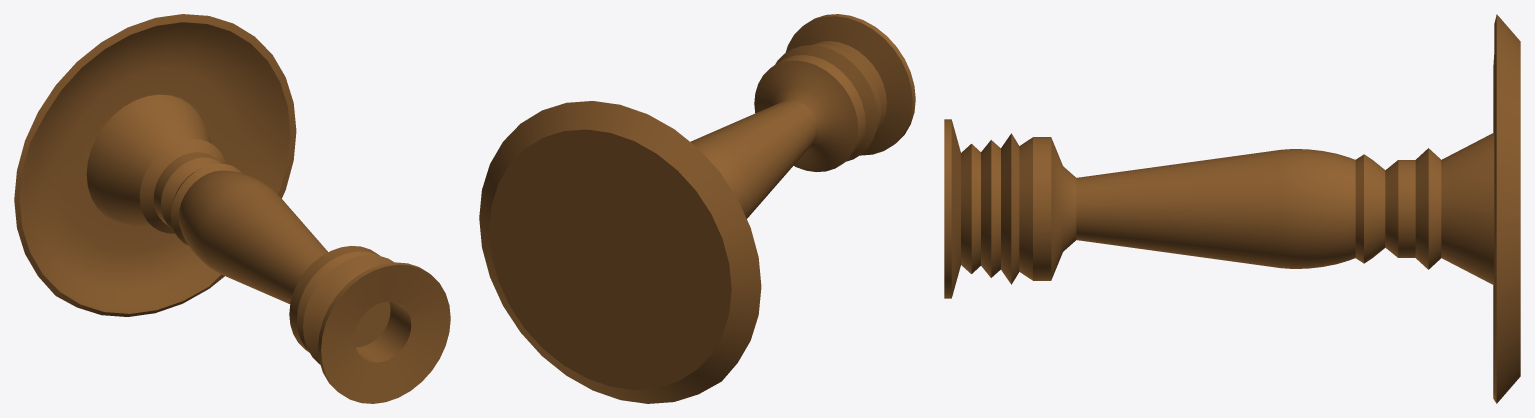
The picture shows the model from 3 angles, left to right: view 1: azimuth 30°, elevation 25°; view 2: azimuth 150°, elevation 25°; view 3: azimuth 270°, elevation 25°; orthographic projection. The views are drawn at different scales.
Size of the model in its own units: 0.4838 by 0.4838 by 0.7141.
